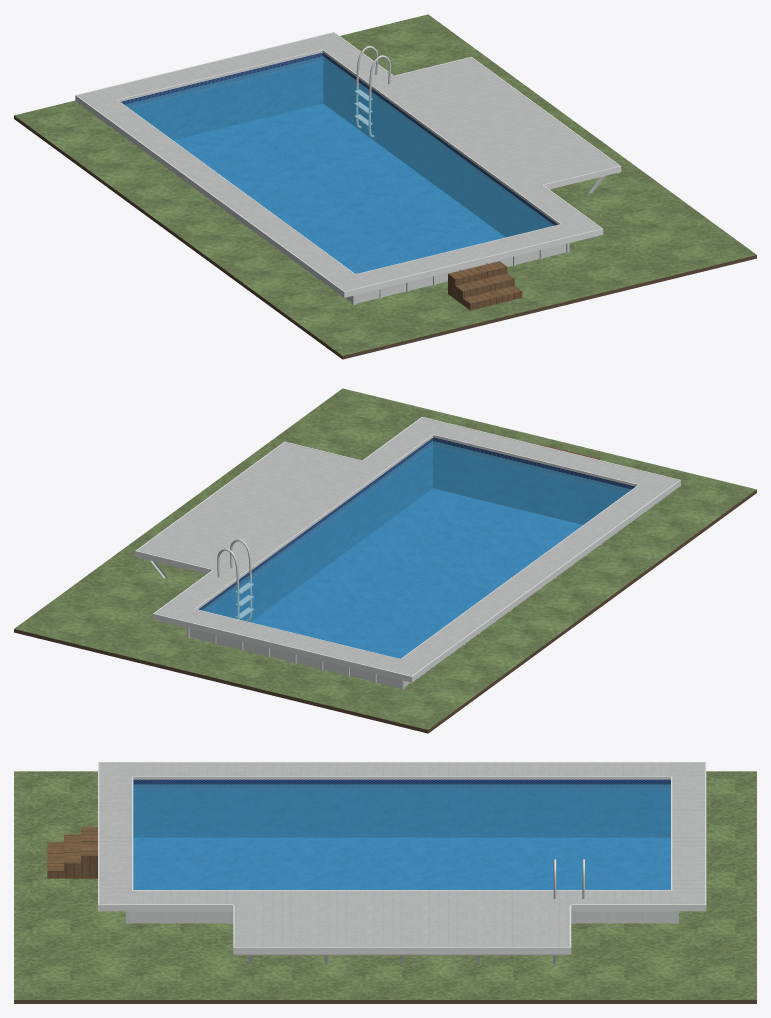
The model's file is kayak-pool-16x32-white-t-rec-nofence.7bce8251f7.glb.
3 views of the same model, one above another, from view 1: azimuth 30°, elevation 25°; view 2: azimuth 150°, elevation 25°; view 3: azimuth 270°, elevation 25° (orthographic). The views are drawn at different scales.
Visible parts, largest first — view 1: ground, water, deck, liner_floor, liner_wall, fascia, soil, steps, wall, steel; view 2: ground, water, deck, liner_floor, liner_wall, fascia, soil, wall, steel; view 3: ground, water, deck, liner_wall, liner_floor, fascia, soil, wall, steps, stud.
Part boxes in pixels (left/top/right/bottom): ground: left=14, top=14, right=756, bottom=355; water: left=125, top=56, right=553, bottom=273; deck: left=77, top=33, right=618, bottom=291; liner_floor: left=173, top=104, right=505, bottom=273; liner_wall: left=121, top=52, right=557, bottom=237; fascia: left=75, top=32, right=621, bottom=297; soil: left=14, top=115, right=756, bottom=359; steps: left=448, top=261, right=522, bottom=310; wall: left=345, top=244, right=566, bottom=303; steel: left=354, top=46, right=390, bottom=137; ground: left=14, top=388, right=756, bottom=729; water: left=202, top=441, right=631, bottom=658; deck: left=137, top=417, right=678, bottom=675; liner_floor: left=251, top=488, right=582, bottom=658; liner_wall: left=198, top=437, right=635, bottom=621; fascia: left=135, top=417, right=680, bottom=682; soil: left=14, top=489, right=756, bottom=733; wall: left=189, top=628, right=410, bottom=688; steel: left=217, top=539, right=253, bottom=621; ground: left=14, top=771, right=756, bottom=999; water: left=133, top=784, right=670, bottom=889; deck: left=99, top=763, right=704, bottom=946; liner_wall: left=133, top=779, right=670, bottom=837; liner_floor: left=133, top=837, right=670, bottom=889; fascia: left=98, top=762, right=706, bottom=954; soil: left=14, top=1000, right=756, bottom=1003; wall: left=129, top=911, right=675, bottom=923; steps: left=47, top=827, right=97, bottom=878; stud: left=234, top=954, right=569, bottom=963.
Bounding box in the file's own units: 9.75 × 1.9 × 13.4.
Materials: 12 (5 with a texture image).
